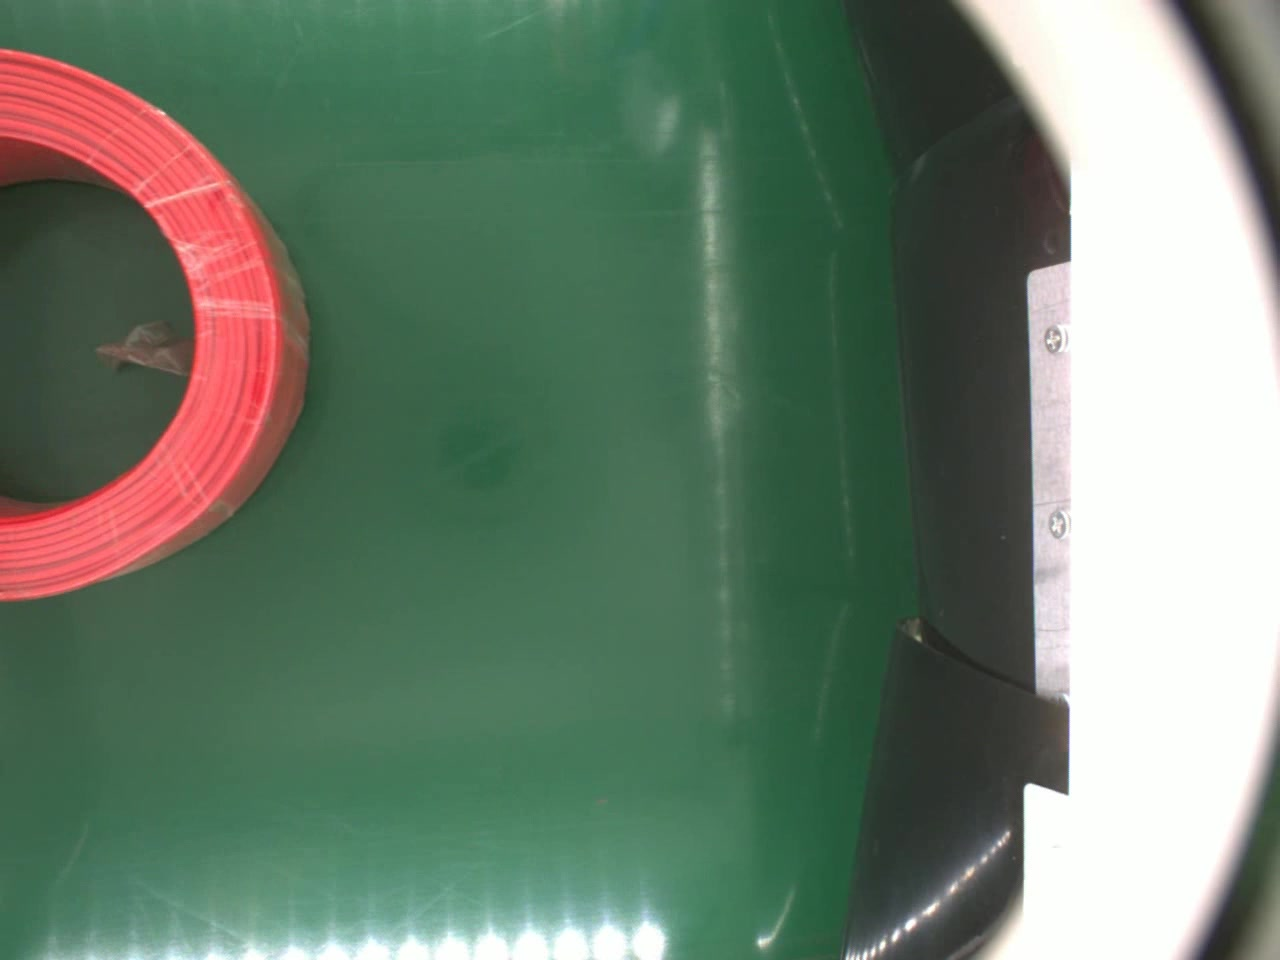red: (0, 50, 305, 606)
